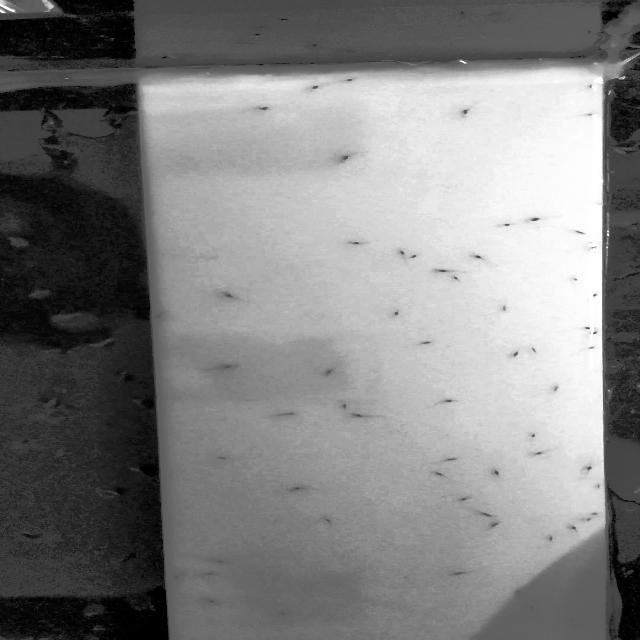shrimp: (212, 284, 256, 306), (342, 237, 378, 251), (524, 208, 558, 222), (485, 218, 519, 231), (453, 102, 484, 116), (428, 467, 465, 478), (567, 107, 600, 119), (430, 452, 461, 464), (559, 226, 589, 238), (429, 266, 474, 274), (403, 340, 439, 350), (565, 520, 584, 537), (445, 571, 489, 578), (482, 520, 511, 530), (208, 362, 240, 371), (520, 449, 552, 458), (578, 319, 600, 332), (270, 408, 298, 418), (469, 252, 494, 263), (349, 411, 373, 422), (536, 531, 560, 542), (475, 509, 501, 519), (146, 308, 168, 319), (323, 364, 338, 380), (210, 453, 240, 461), (399, 244, 412, 262), (563, 268, 582, 280), (403, 252, 425, 262), (489, 469, 511, 479), (521, 432, 545, 441), (551, 380, 567, 393), (287, 485, 312, 493), (508, 588, 528, 598), (381, 309, 399, 320), (435, 397, 459, 405), (336, 400, 351, 412), (508, 349, 524, 360), (305, 82, 324, 91), (196, 597, 217, 605), (338, 75, 358, 83), (214, 557, 234, 565), (448, 276, 472, 282), (455, 496, 473, 504), (339, 151, 353, 161), (525, 604, 548, 610), (580, 466, 596, 474), (172, 572, 188, 580), (567, 621, 583, 629), (200, 570, 220, 576), (498, 302, 515, 309), (587, 291, 604, 298), (256, 104, 269, 113), (566, 615, 580, 623), (527, 345, 537, 356), (275, 608, 286, 617), (582, 345, 598, 351), (321, 517, 333, 524), (590, 328, 602, 335)
